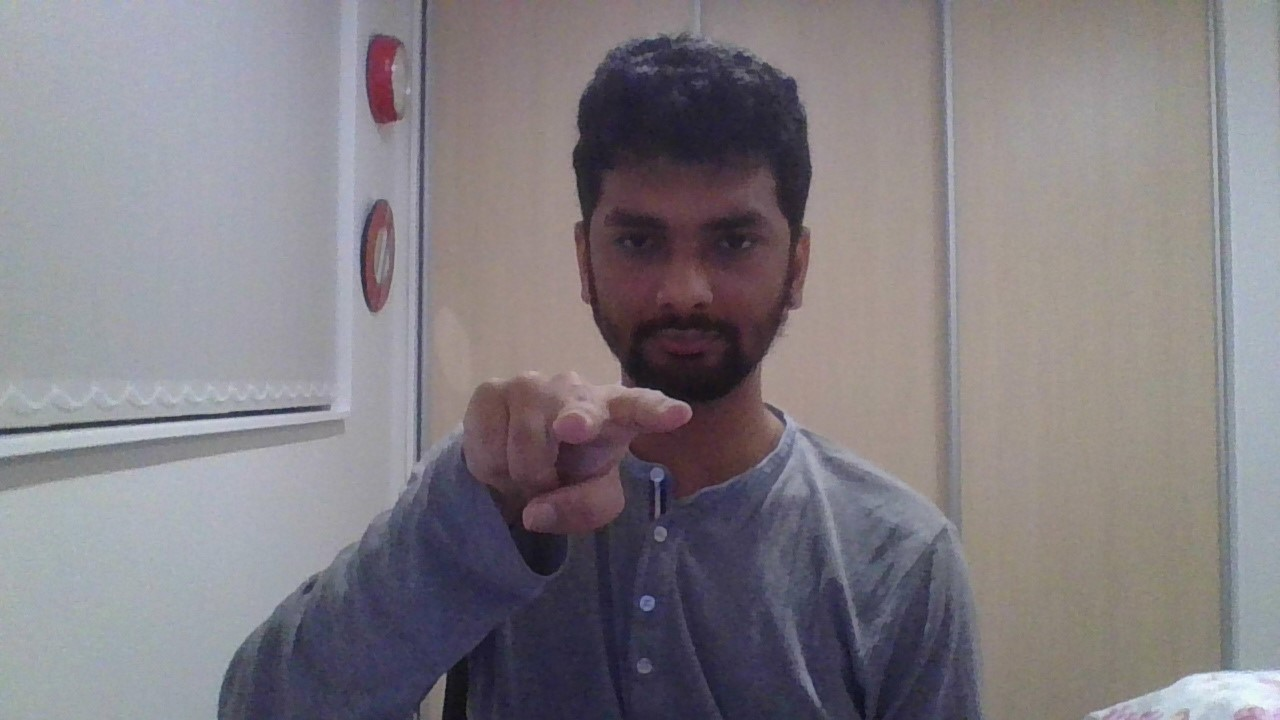look_around: (463, 372, 692, 534)
